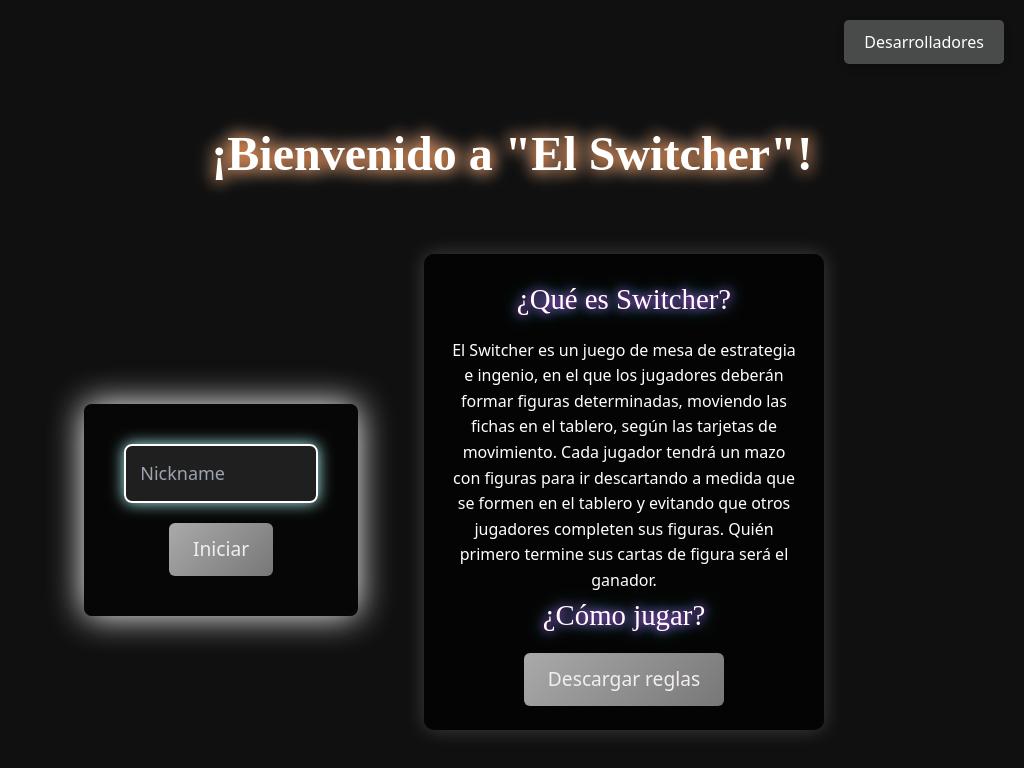
Login Component › Muestra un mensaje de error si la solicitud al backend falla
The image size is (1024, 768).
Type "Ely" into the field with placeholder "Nickname". click: (221, 474)
box: left=124, top=444, right=318, bottom=503
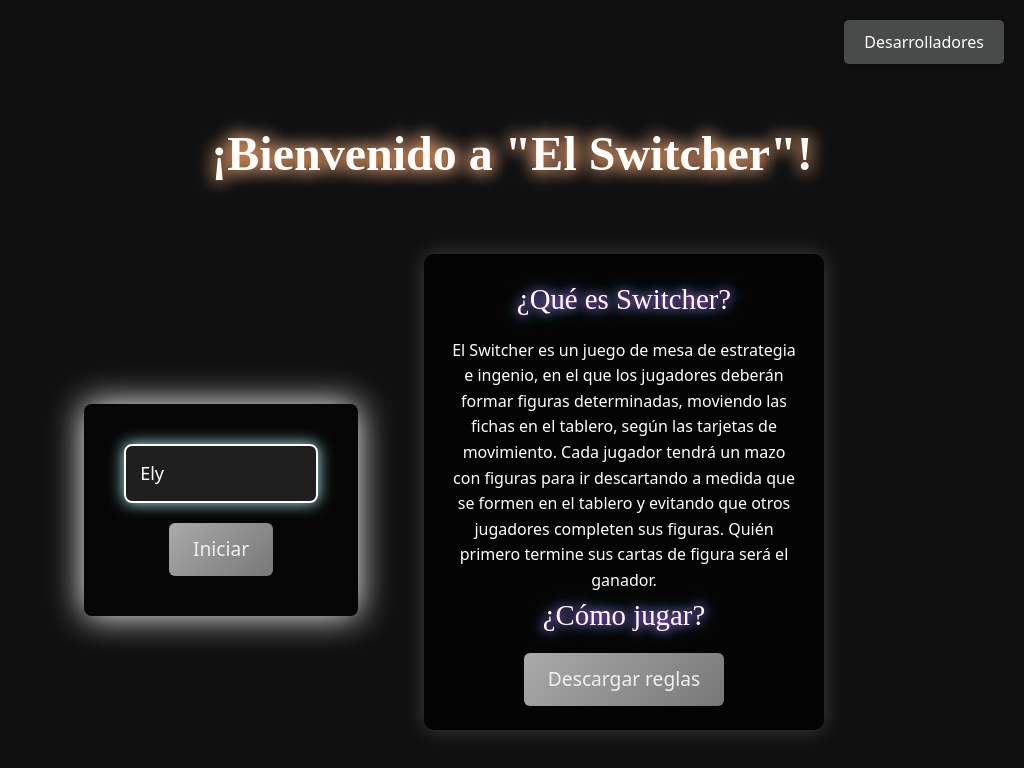
Click the button "Iniciar". click: (221, 550)
box: left=169, top=523, right=273, bottom=576
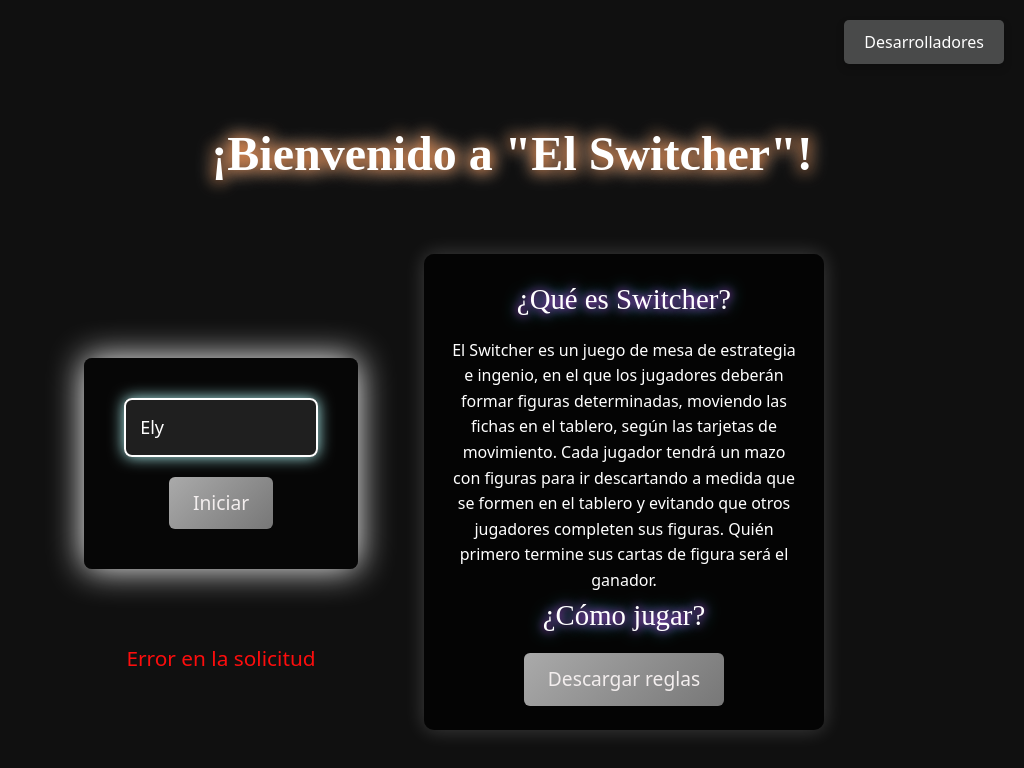
Result: the text "Error en la solicitud" is shown at left=126, top=643, right=316, bottom=674
